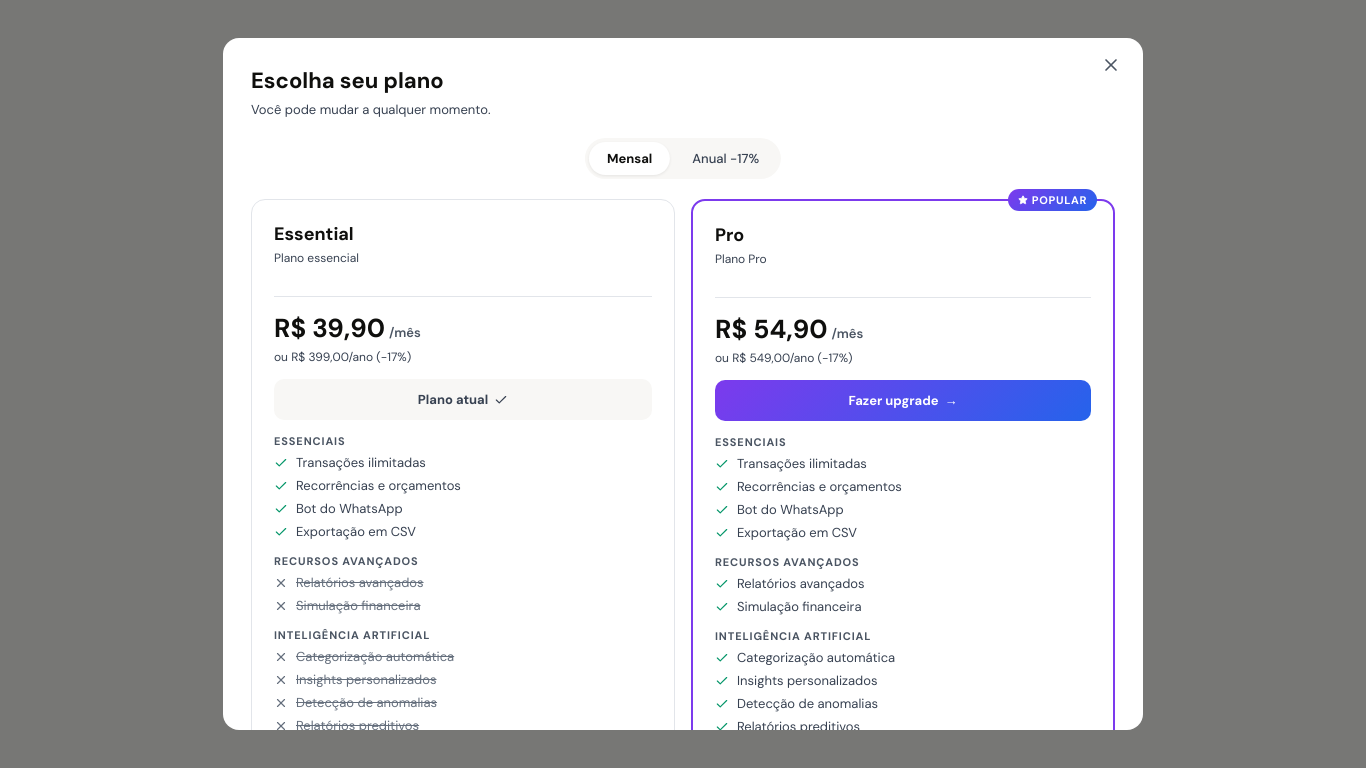
Test: <PlansComparisonModal> › switches to yearly view highlighting the monthly equivalent and annual savings
Expected: the text "Essential" is shown, [274,222,354,246]
Click the tab "Anual -17%": coordinates (726, 159) [674,142,777,175]
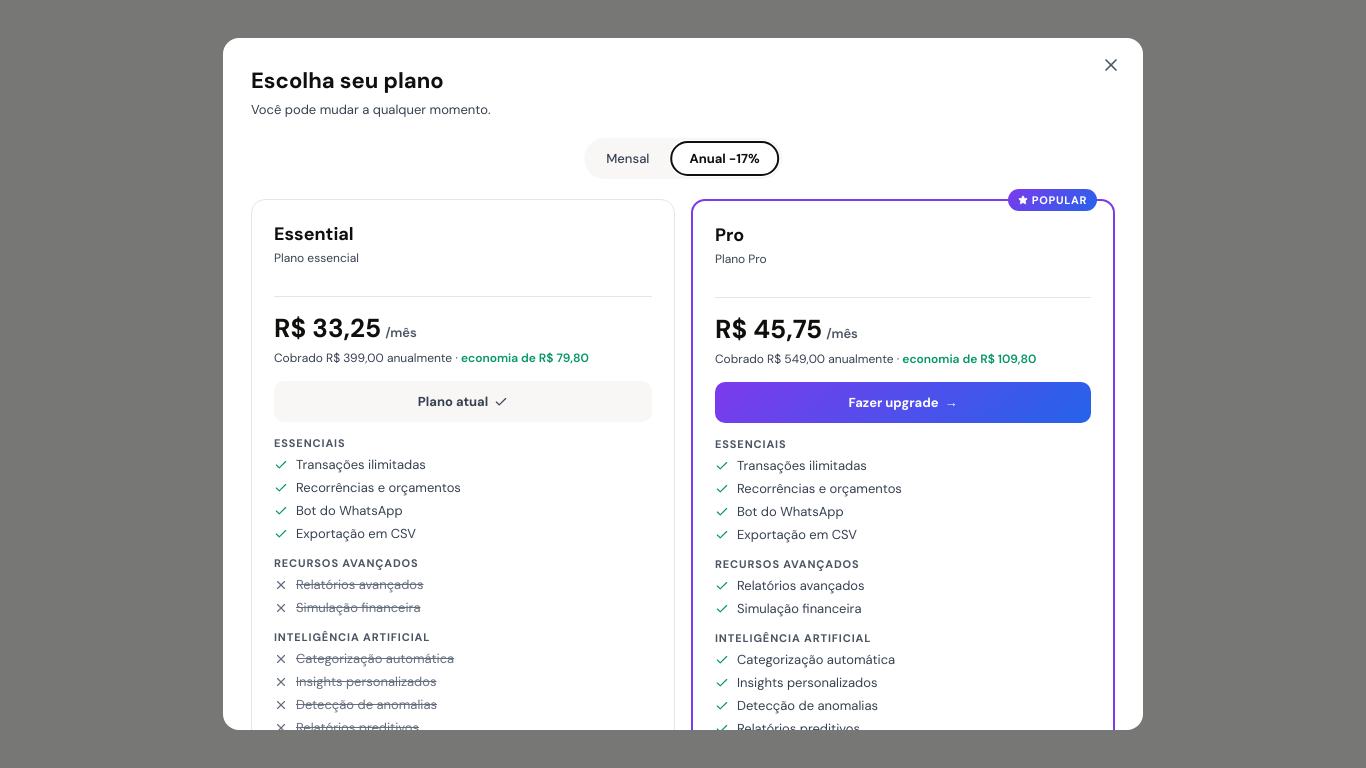
Expected: the text "R$ 33,25/mês" is shown, [274,311,417,345]
Expected: the text "R$ 45,75/mês" is shown, [715,312,858,346]
Expected: the text "Cobrado R$ 399,00 anualmente · economia de R$ 79,80" is shown, [274,350,589,366]
